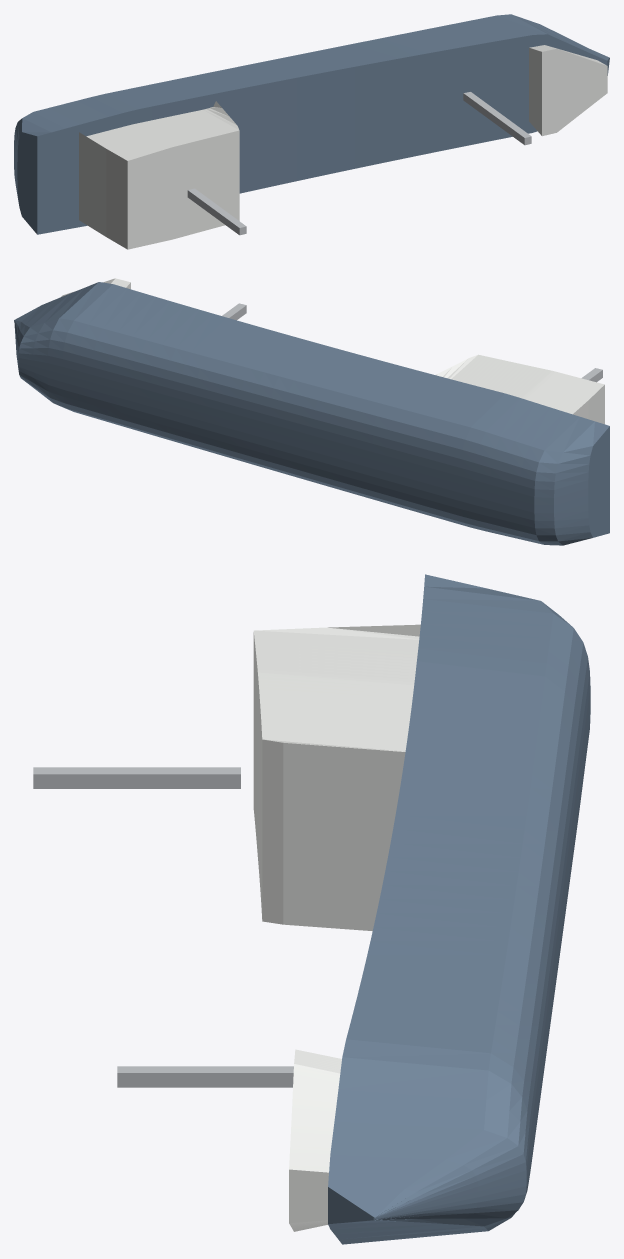
File: loft-aground-slender.glb
3 views of the same model, one above another, from view 1: azimuth 30°, elevation 25°; view 2: azimuth 150°, elevation 25°; view 3: azimuth 270°, elevation 25° (orthographic). The views are drawn at different scales.
Parts seen in each view (by area): view 1: loft-aground-slender; view 2: loft-aground-slender; view 3: loft-aground-slender.
Part boxes in pixels (x1,y1,x2,y2): loft-aground-slender: (14, 14, 609, 249); loft-aground-slender: (14, 278, 609, 545); loft-aground-slender: (33, 574, 590, 1244).
Size of the model in its own units: 1.92 by 0.3516 by 0.8274.
